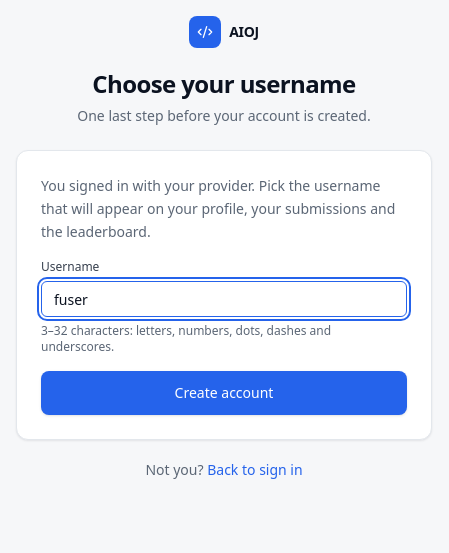
Test: shows the server error when the handle is refused at submit time
Click the button "Create account".
click(224, 393)  # box [41,371,407,415]
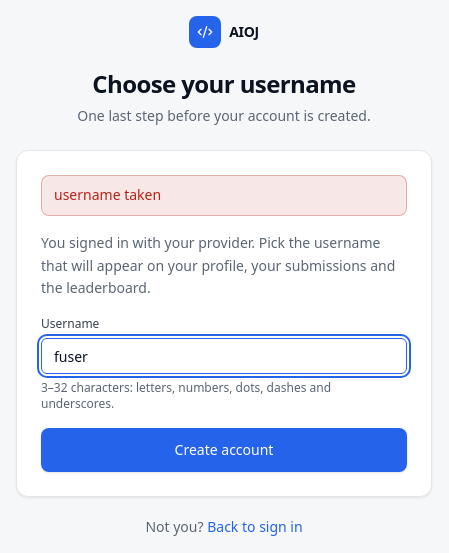
Result: the message reads "username taken" at [54,185,161,204]
